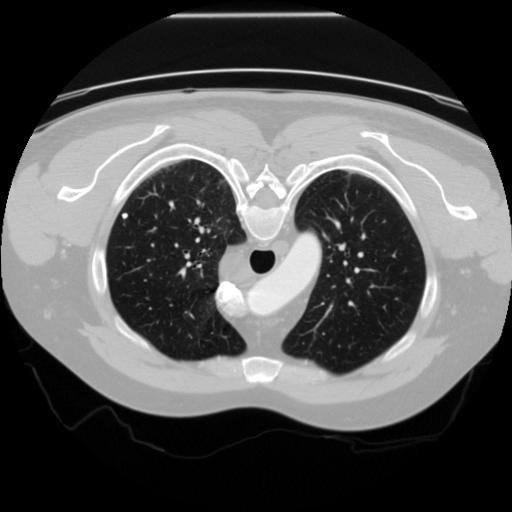nodule: (119, 212, 131, 224)
